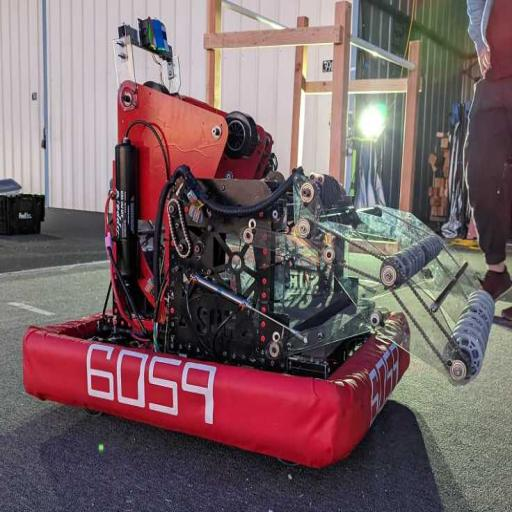robot: (19, 17, 498, 468)
